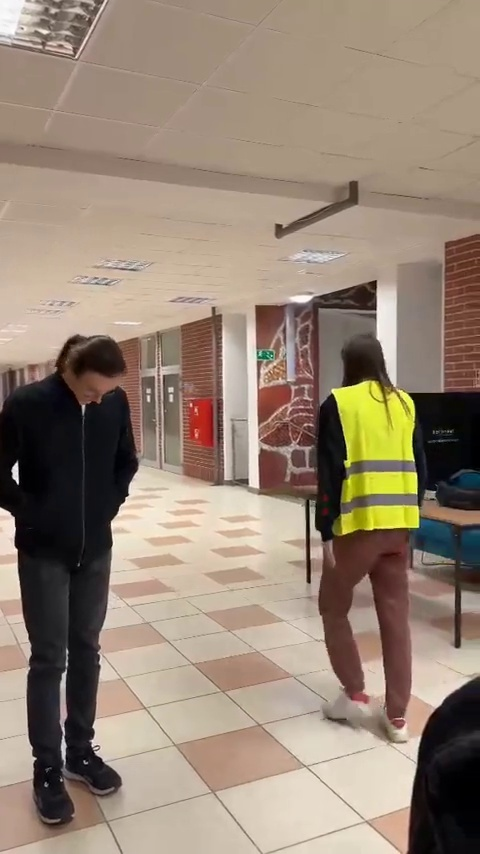no vest: (3, 328, 151, 836)
vest: (298, 335, 444, 737)
